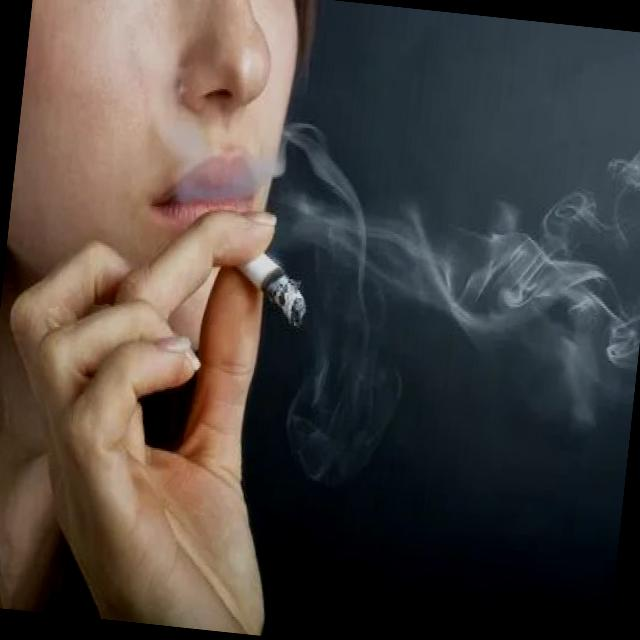cigarette: (224, 238, 326, 349)
